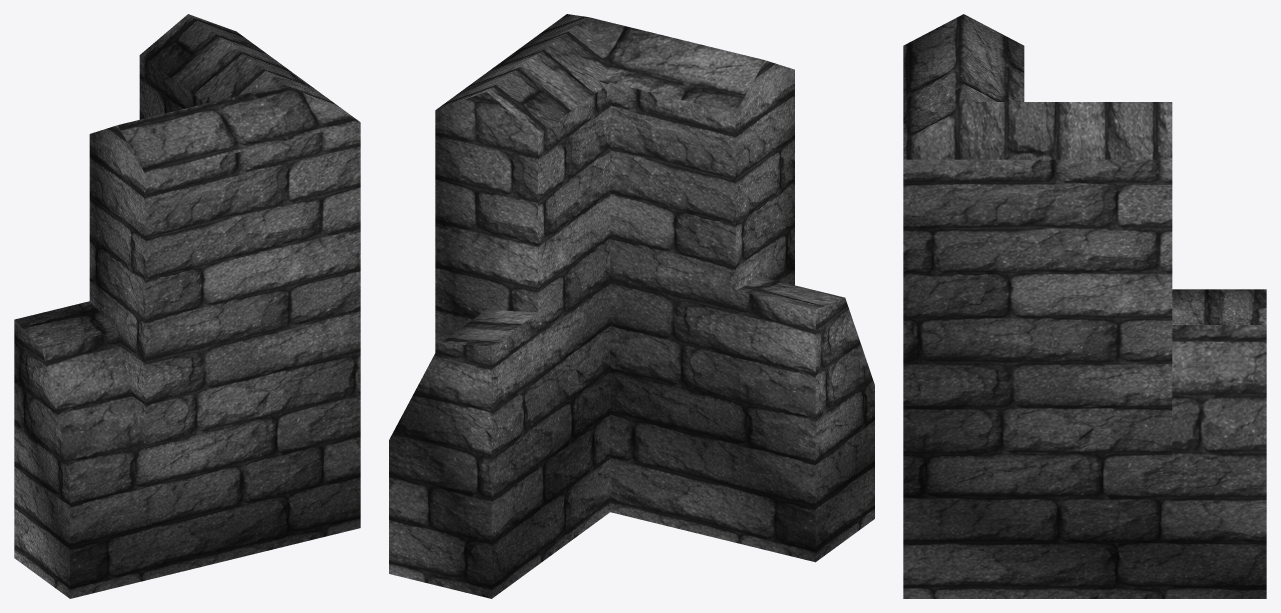
Rendered from stone defense corner.glb.
3 renders of one model, left to right at view 1: azimuth 30°, elevation 25°; view 2: azimuth 150°, elevation 25°; view 3: azimuth 270°, elevation 25°, orthographic. The views are drawn at different scales.
Visible parts, largest first — view 1: Crenelation Outside Corner.005; view 2: Crenelation Outside Corner.005; view 3: Crenelation Outside Corner.005.
Part boxes in pixels (x1,y1,x2,y2): Crenelation Outside Corner.005: (14,14,360,598); Crenelation Outside Corner.005: (389,14,874,598); Crenelation Outside Corner.005: (903,14,1266,598).
Bounding box in the file's own units: 1.37 × 1.96 × 1.37.
1 material, 1 textured.
